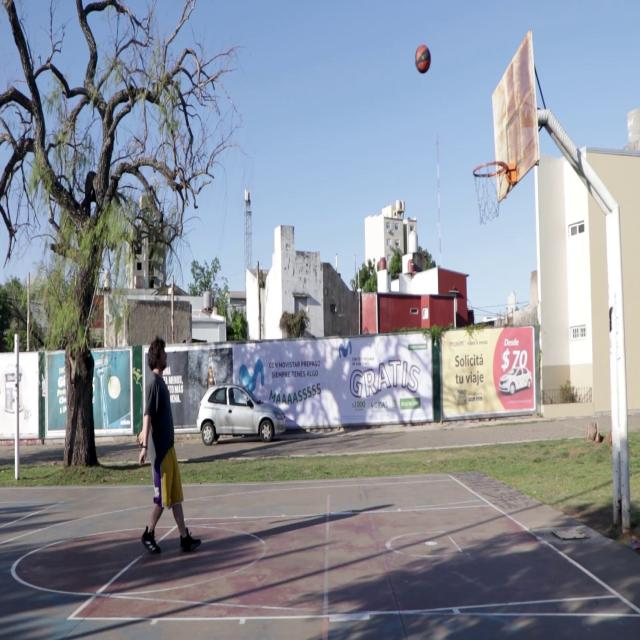ball: (414, 44, 432, 74)
